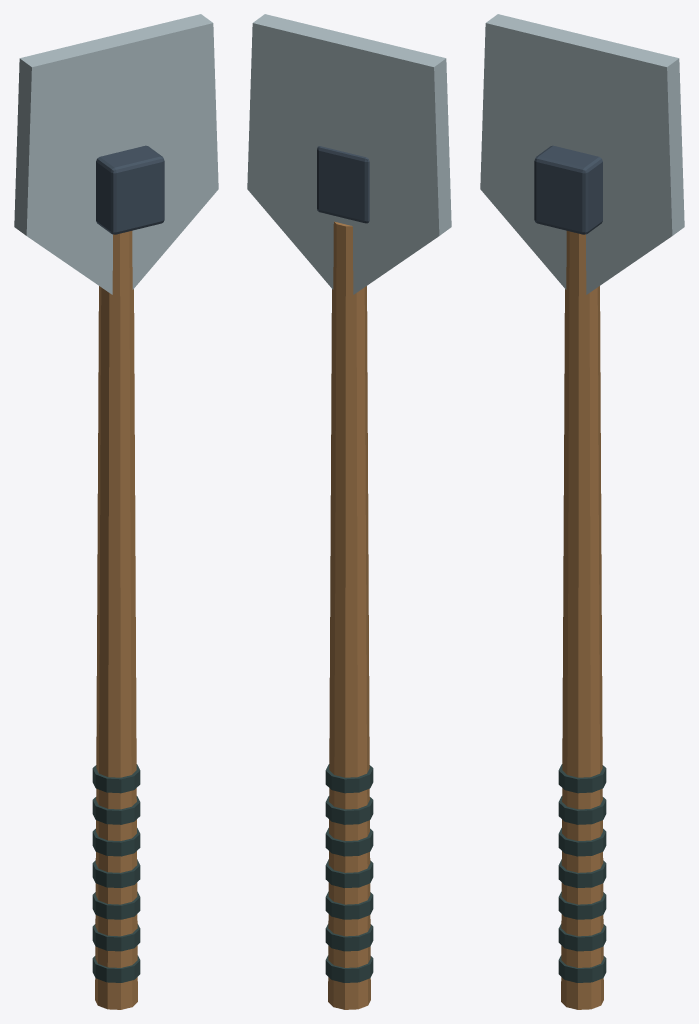
Rendered from shovel.glb.
The picture shows the model from 3 angles, left to right: view 1: azimuth 30°, elevation 25°; view 2: azimuth 150°, elevation 25°; view 3: azimuth 330°, elevation 25°; orthographic projection.
Parts seen in each view (by area): view 1: shovel; view 2: shovel; view 3: shovel.
Part boxes in pixels (bbox=[...]): shovel: bbox=[14, 14, 218, 1009]; shovel: bbox=[247, 14, 451, 1009]; shovel: bbox=[480, 14, 684, 1009].
Size of the model in its own units: 0.36 by 1.72 by 0.1121.
